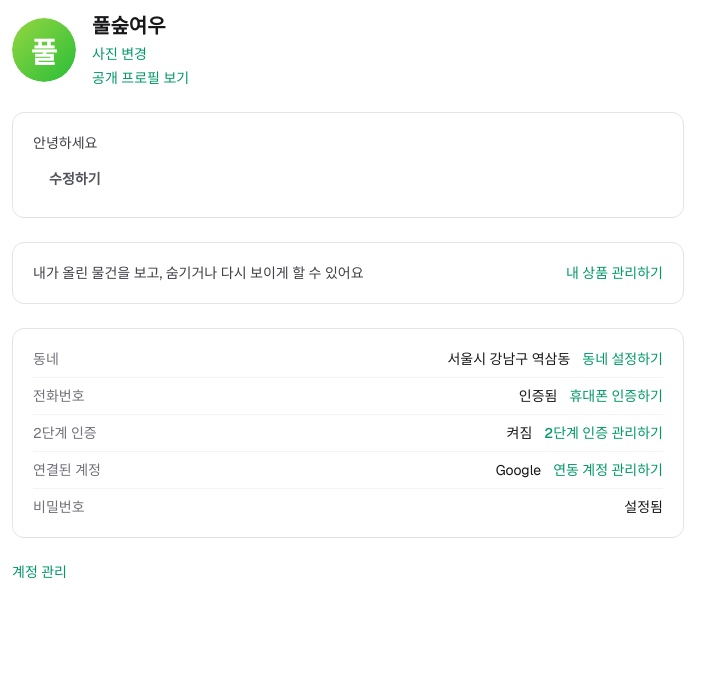
Scenario: MyPage — bio edit › cancels editing without saving
The image size is (701, 686).
Click the button "수정하기" at (75, 179), box [33,161,116,197]
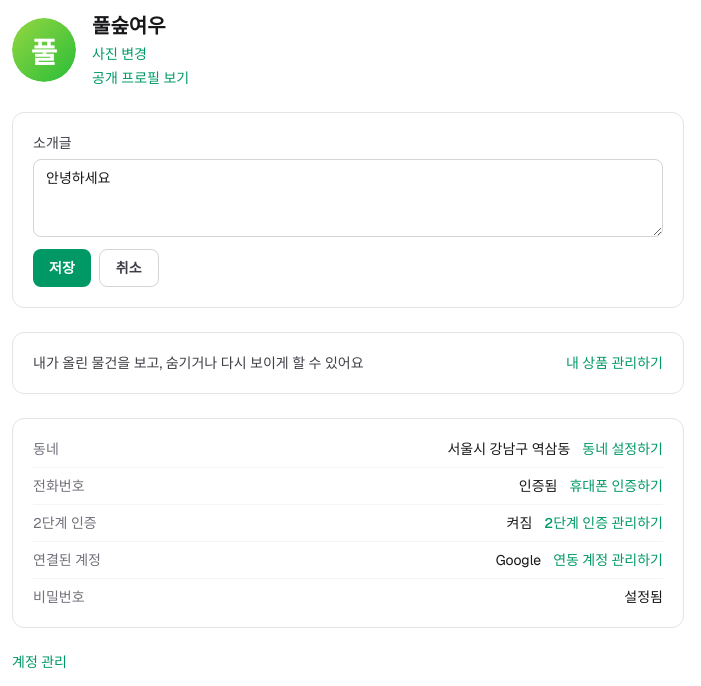
Click the button "취소" at (129, 268), box [99,249,159,287]
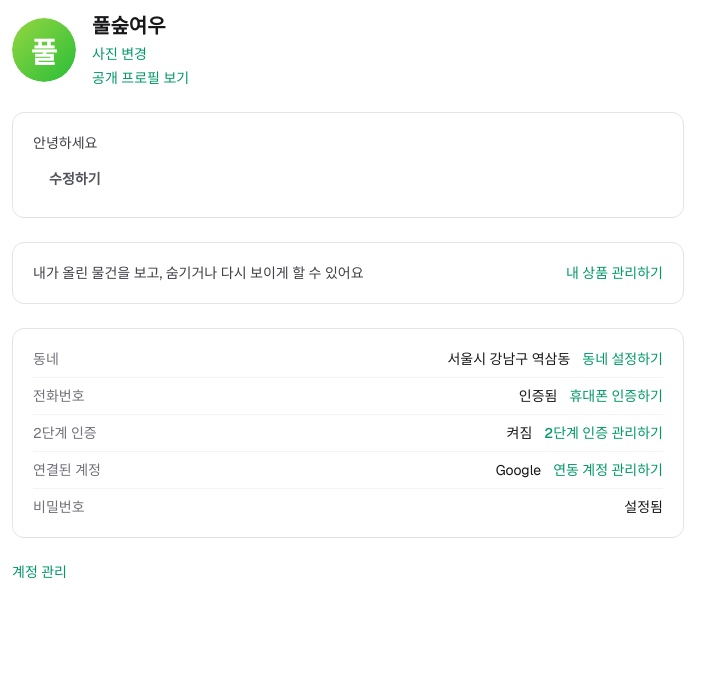
Now the text labelled "소개글" is gone
Now the text "안녕하세요" is shown, box [33,134,97,152]
